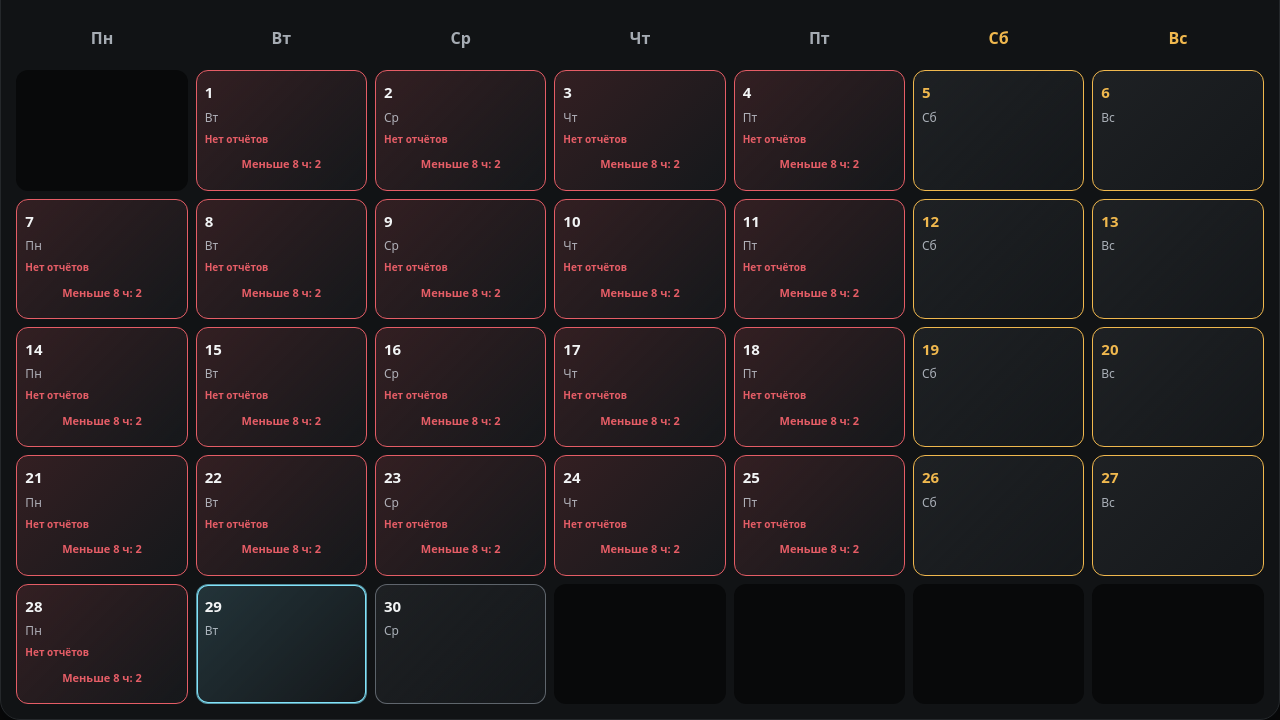
it: month calendar hour warnings › opens today's summary without reports while leaving the calendar card unmarked
The image size is (1280, 720).
(page scrolled)
What coordinates should you click on to do the following:
click the button with aria-label "29 сентября:"
I would click on:
 (281, 644)
Its box is top-left (196, 584), bottom-right (367, 704).
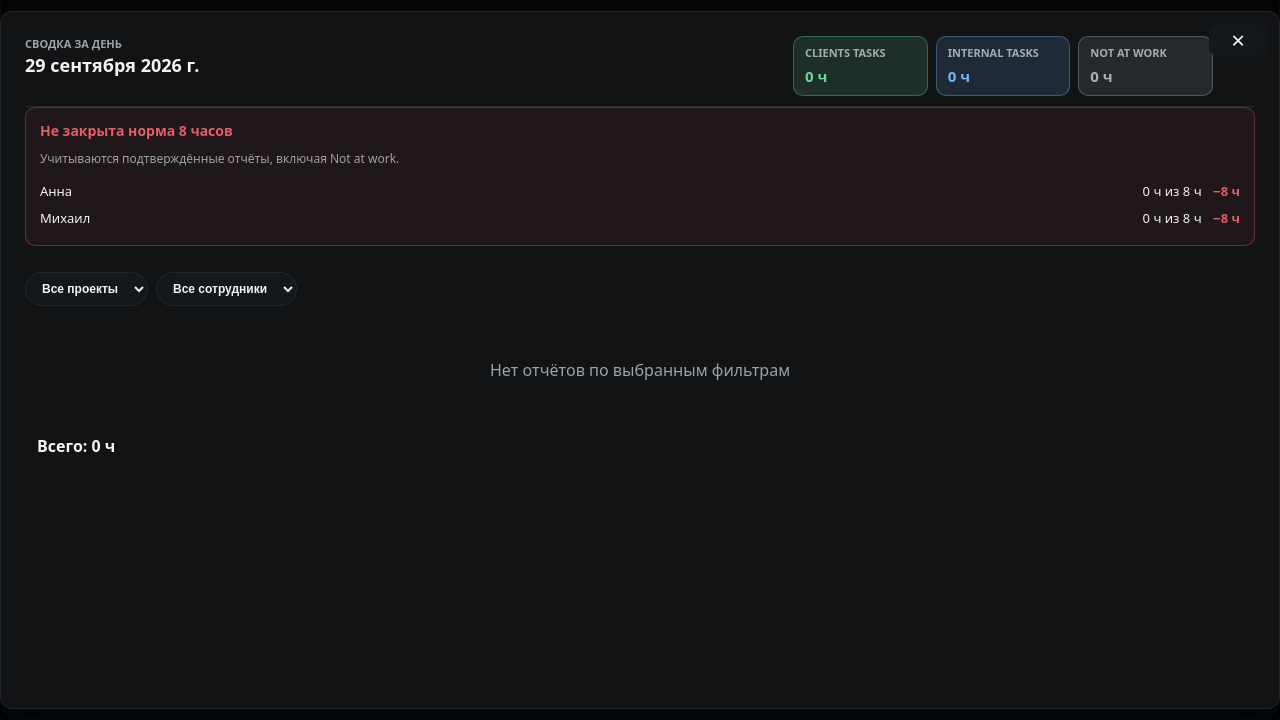
Expected: the element named "Недостающие часы" does not show "Бывший сотрудник", top-left (25, 107), bottom-right (1255, 246)
Expected: the number of list items is 2, top-left (40, 178), bottom-right (1240, 205); top-left (40, 205), bottom-right (1240, 233)
